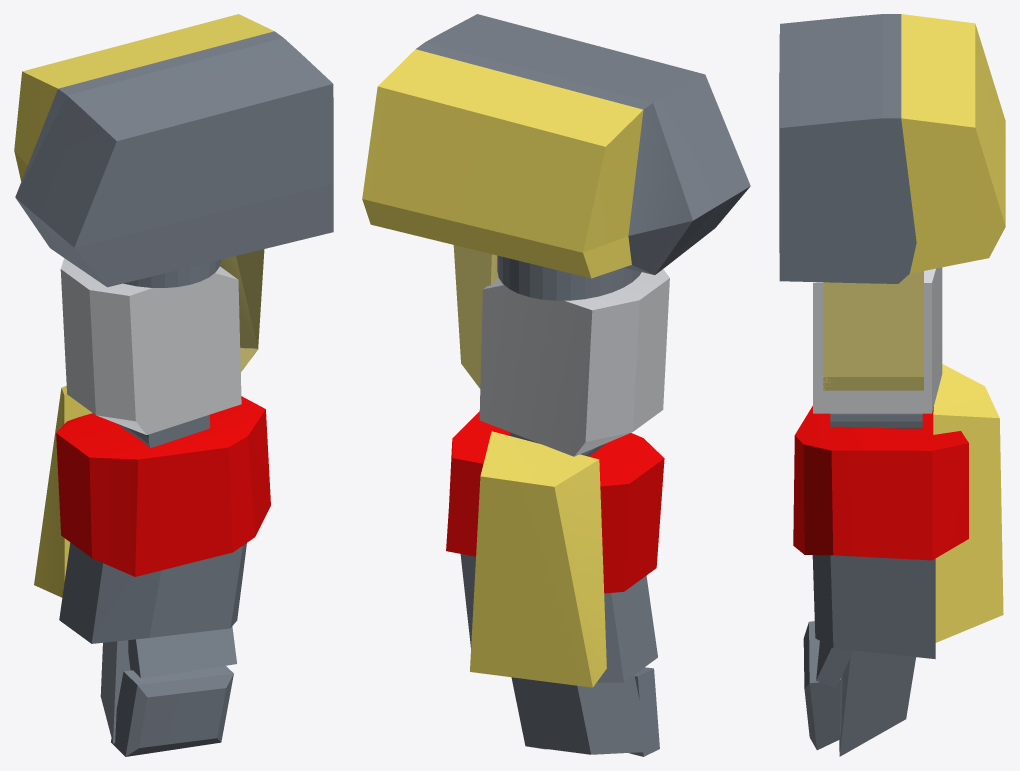
Rendered from Arm_R.fbx.
3 renders of one model, left to right at view 1: azimuth 30°, elevation 25°; view 2: azimuth 150°, elevation 25°; view 3: azimuth 270°, elevation 25°, orthographic. The views are drawn at different scales.
Parts seen in each view (by area): view 1: UpperArm_R, LowerArm_R, Hand_R; view 2: UpperArm_R, LowerArm_R, Hand_R; view 3: UpperArm_R, LowerArm_R, Hand_R.
Part boxes in pixels (x1=…): UpperArm_R: x1=14, y1=14, x2=333, y2=447; LowerArm_R: x1=34, y1=386, x2=270, y2=643; Hand_R: x1=100, y1=626, x2=236, y2=756; UpperArm_R: x1=362, y1=14, x2=750, y2=456; LowerArm_R: x1=446, y1=411, x2=664, y2=687; Hand_R: x1=511, y1=667, x2=659, y2=756; UpperArm_R: x1=779, y1=14, x2=1005, y2=428; LowerArm_R: x1=793, y1=364, x2=1003, y2=659; Hand_R: x1=803, y1=621, x2=915, y2=756.
Bounding box in the file's own units: 427 × 1036 × 310.
